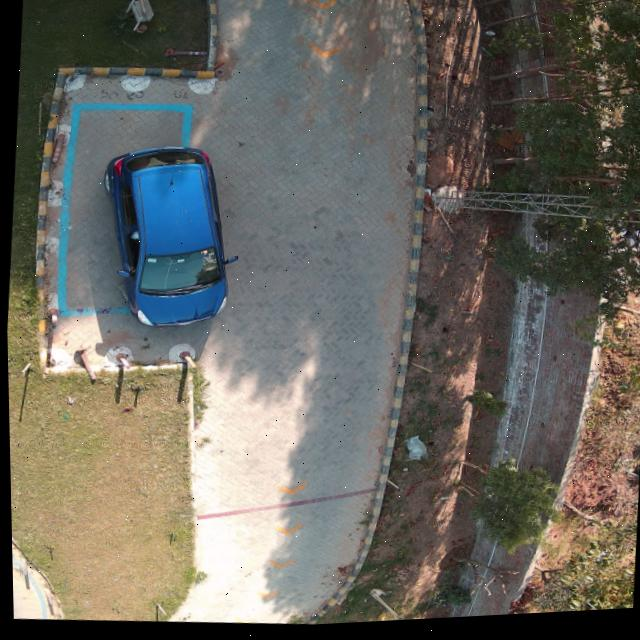car: (102, 148, 235, 329)
